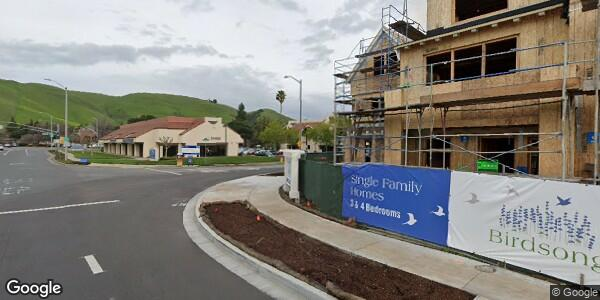Steel_Pole: (41, 77, 68, 145), (282, 74, 304, 123)
